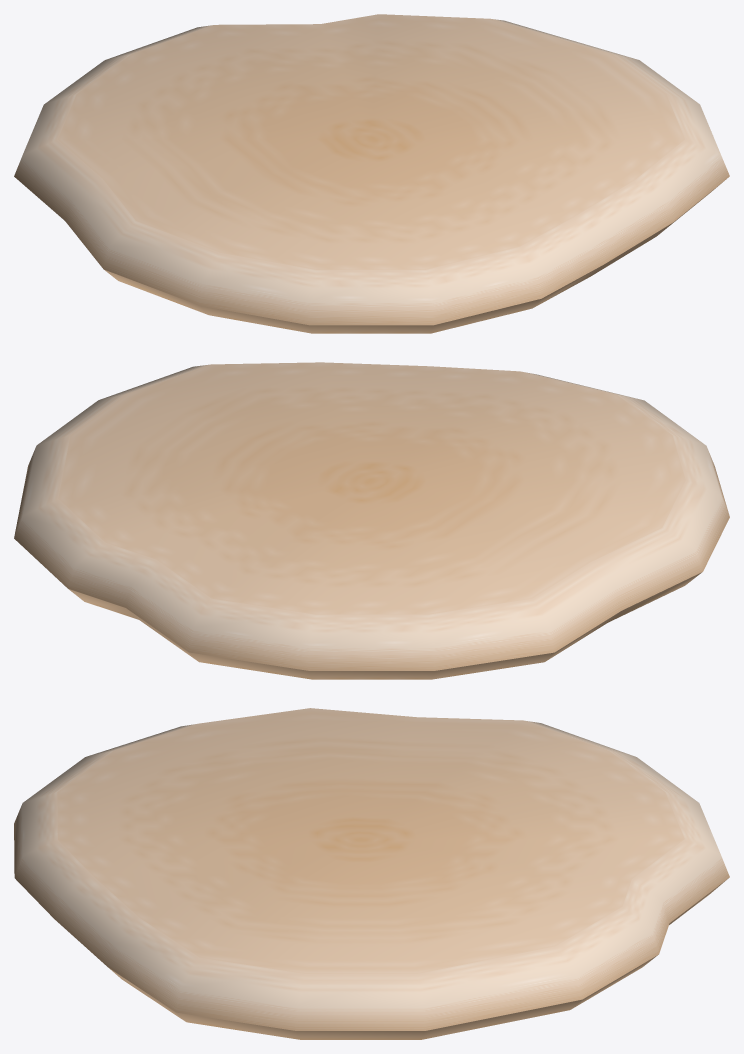
File: food_ingredient_dough_base.gltf
3 views of the same model, one above another, from view 1: azimuth 30°, elevation 25°; view 2: azimuth 150°, elevation 25°; view 3: azimuth 270°, elevation 25° (orthographic). The views are drawn at different scales.
Visible parts, largest first — view 1: food_ingredient_dough_base; view 2: food_ingredient_dough_base; view 3: food_ingredient_dough_base.
Boxes of the visible parts, x1,y1,x2,y2 form: food_ingredient_dough_base: (14, 14, 729, 333); food_ingredient_dough_base: (14, 362, 729, 679); food_ingredient_dough_base: (14, 708, 729, 1039).
Size of the model in its own units: 1.75 by 0.1484 by 1.75.
1 material, 1 textured.
